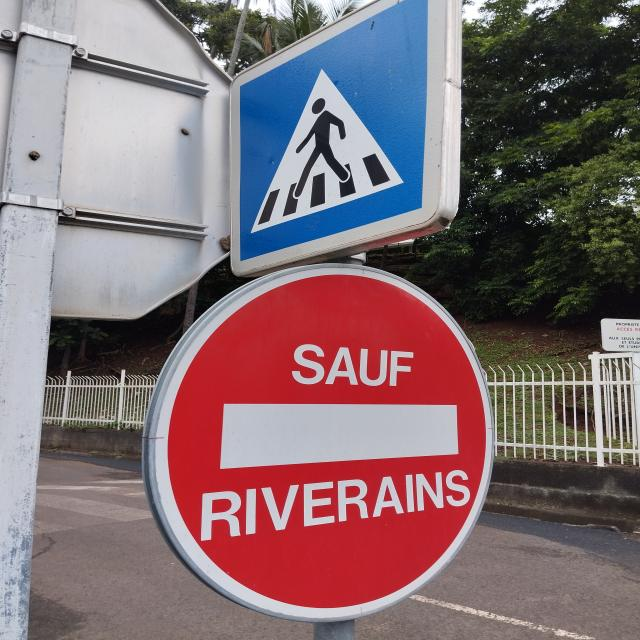Passage-pieton: (221, 0, 456, 275)
